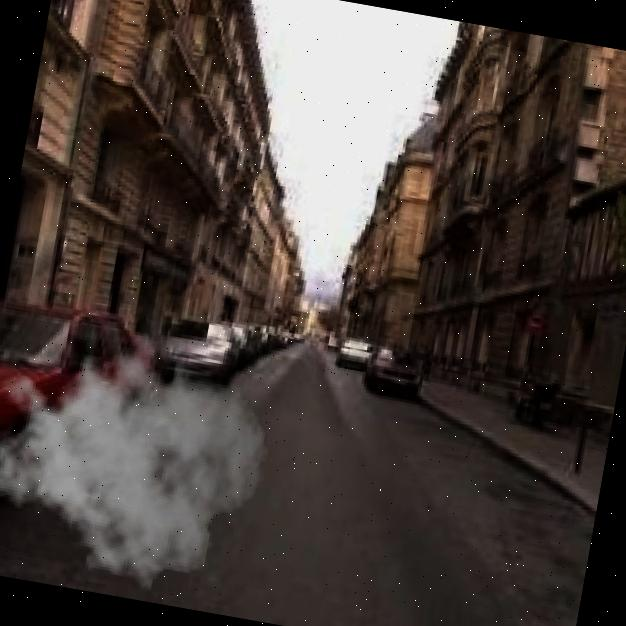smoke: (0, 297, 286, 614)
